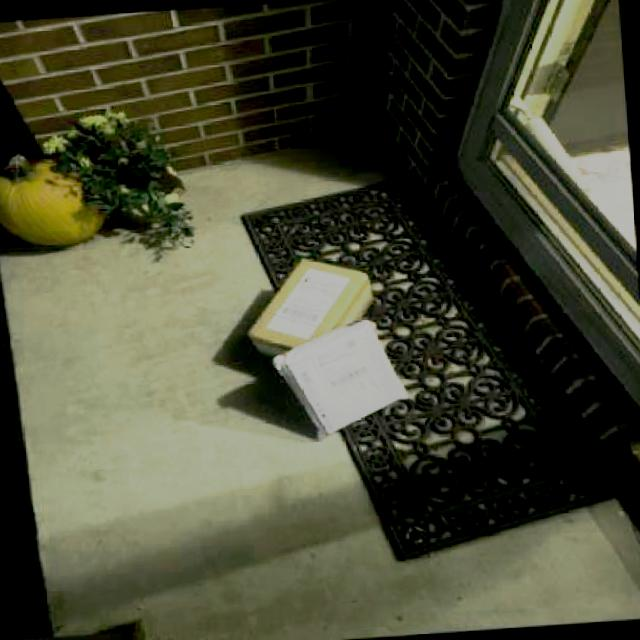Box: (269, 316, 412, 444), (242, 253, 377, 365)
